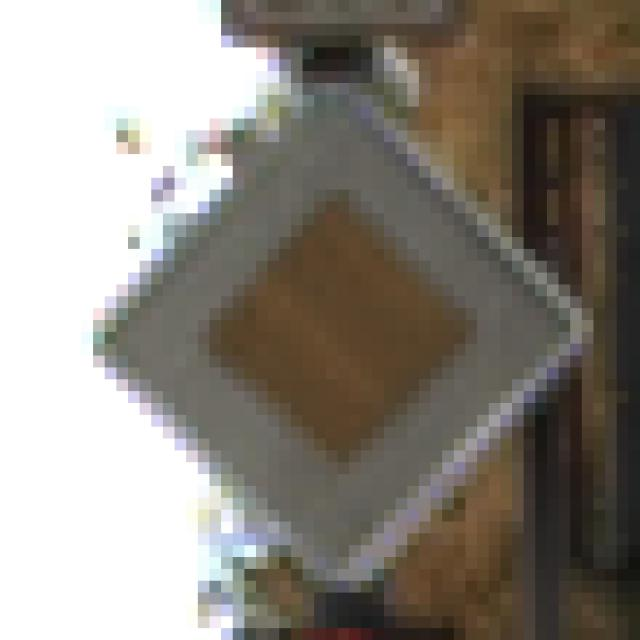Main Road: (71, 72, 571, 582)
